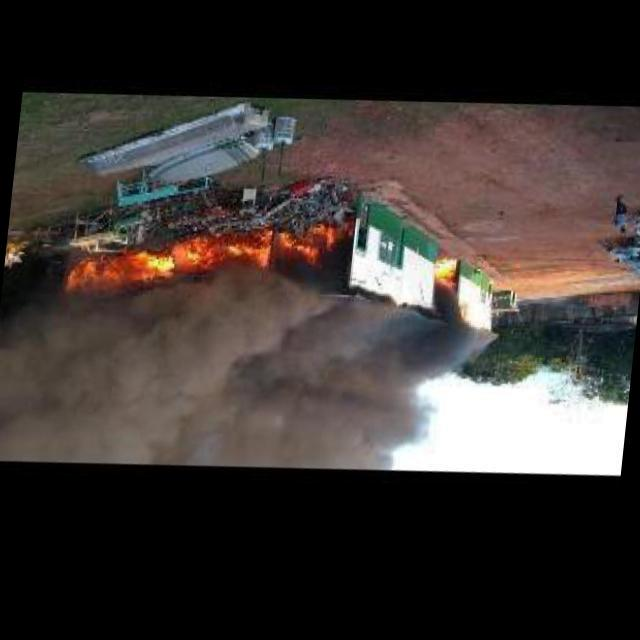fire: (0, 245, 500, 513), (60, 233, 172, 311), (177, 220, 275, 286), (274, 219, 350, 285), (431, 263, 461, 301)
